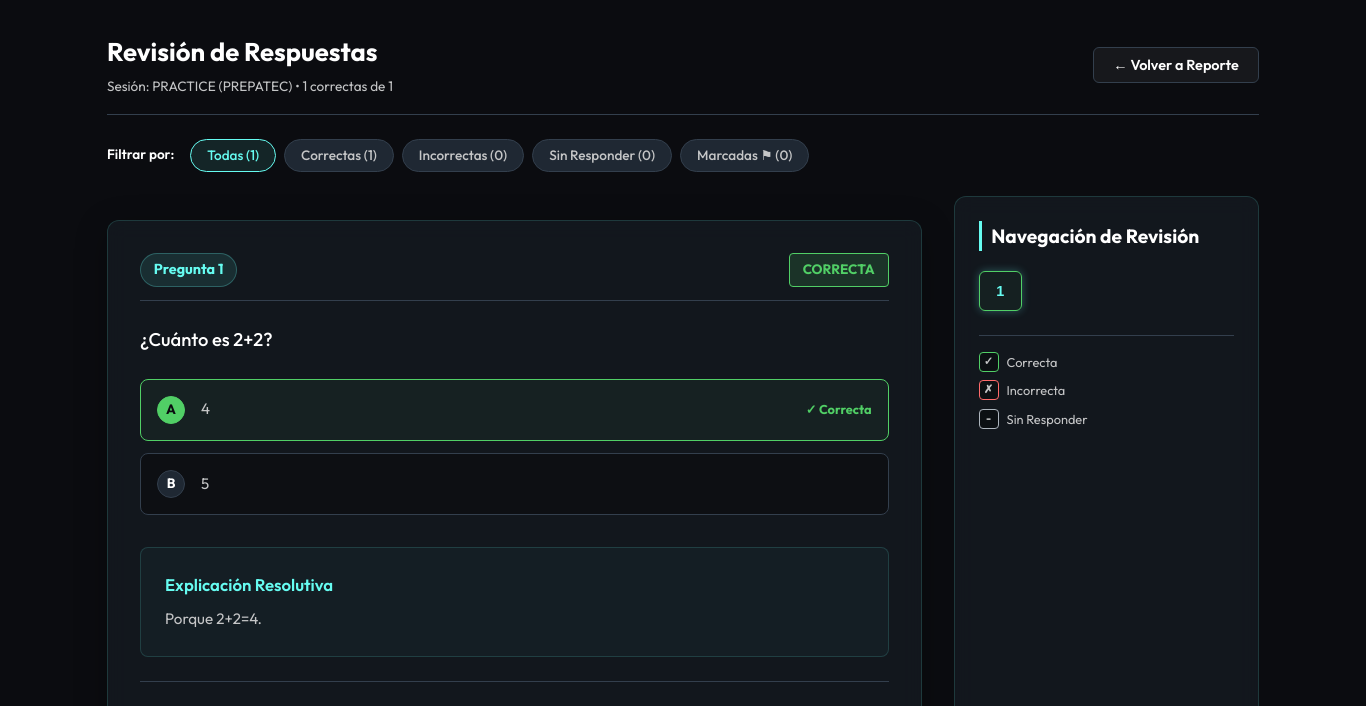
Scenario: Results & Post Session Review Components tests › PostSessionReview Page rendering › filters questions on toolbar click
Click the button "Incorrectas (0)".
click(463, 155)  # box [402, 139, 524, 172]
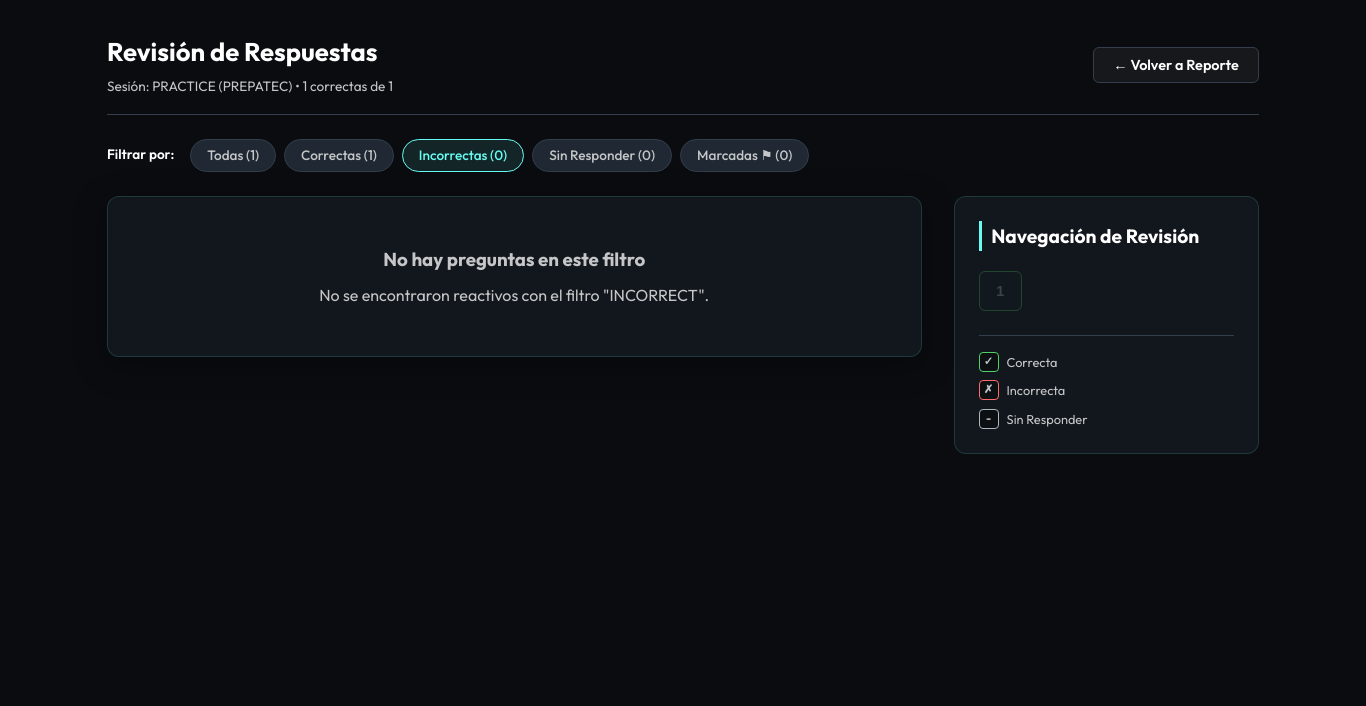
Check: the text "No se encontraron reactivos con el filtro \"INCORRECT\"." is shown, box [319, 285, 709, 305]
Check: the text "¿Cuánto es 2+2?" is gone
